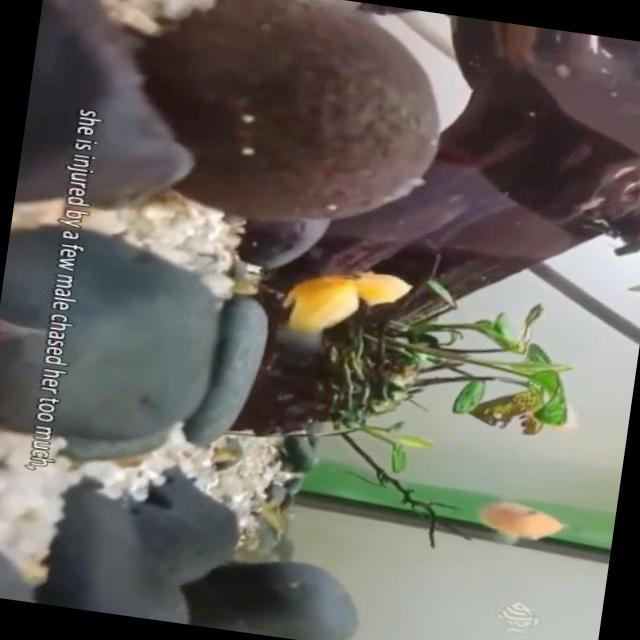PlatyFish: (267, 258, 372, 368), (456, 489, 588, 560)
